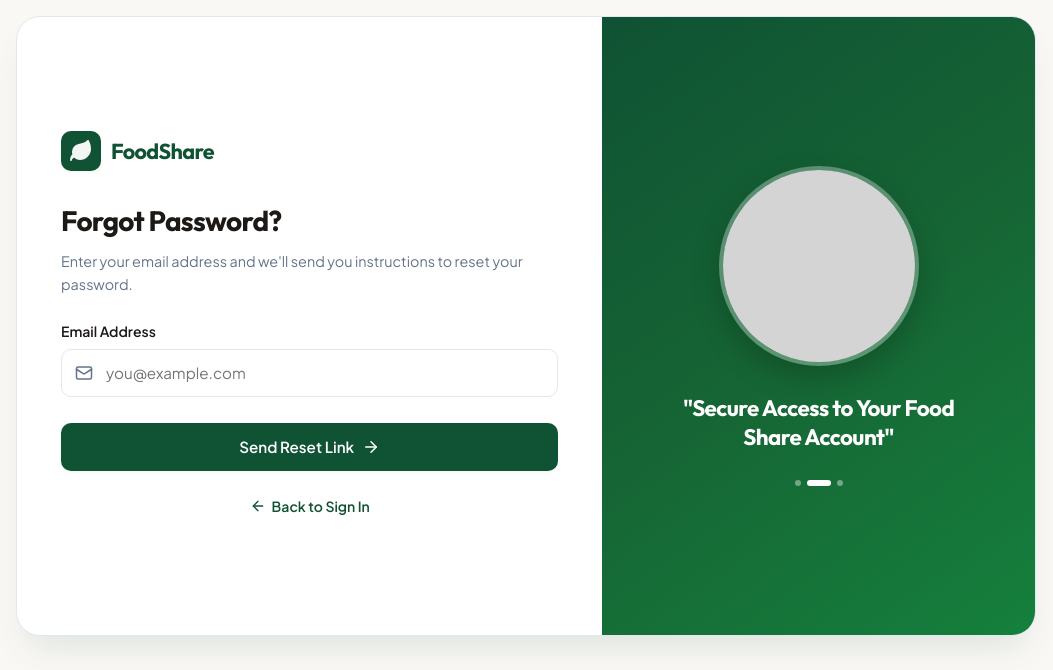
Scenario: ForgotPasswordPage Component › validates invalid email format on submission
The width and height of the screenshot is (1053, 670).
Step 1. Type "invalid-email" into the field labelled "Email Address" → (310, 373), box top-left (61, 349), bottom-right (558, 397)
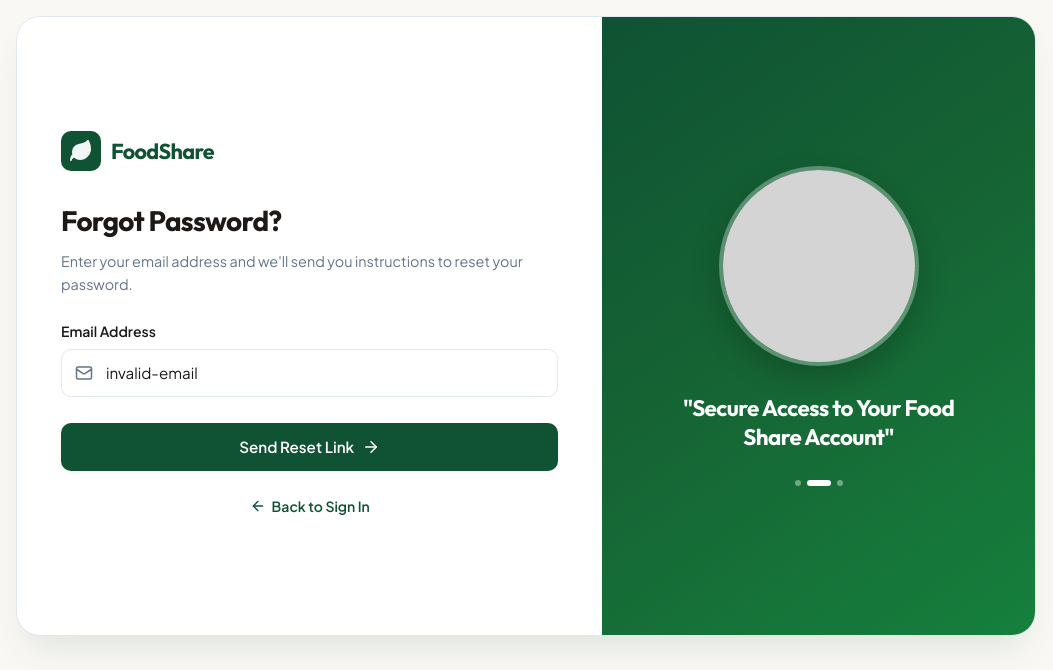
Step 2. Click the button "Send Reset Link" → (310, 447), box top-left (61, 423), bottom-right (558, 471)
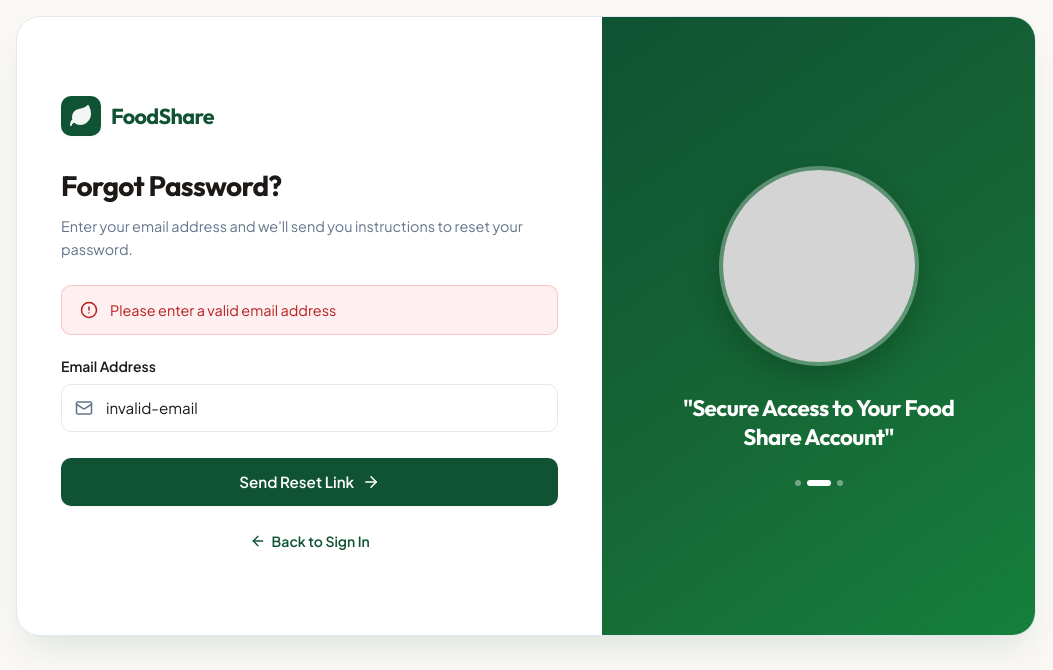
Expected: the text "Please enter a valid email address" is shown, top-left (110, 300), bottom-right (336, 320)
